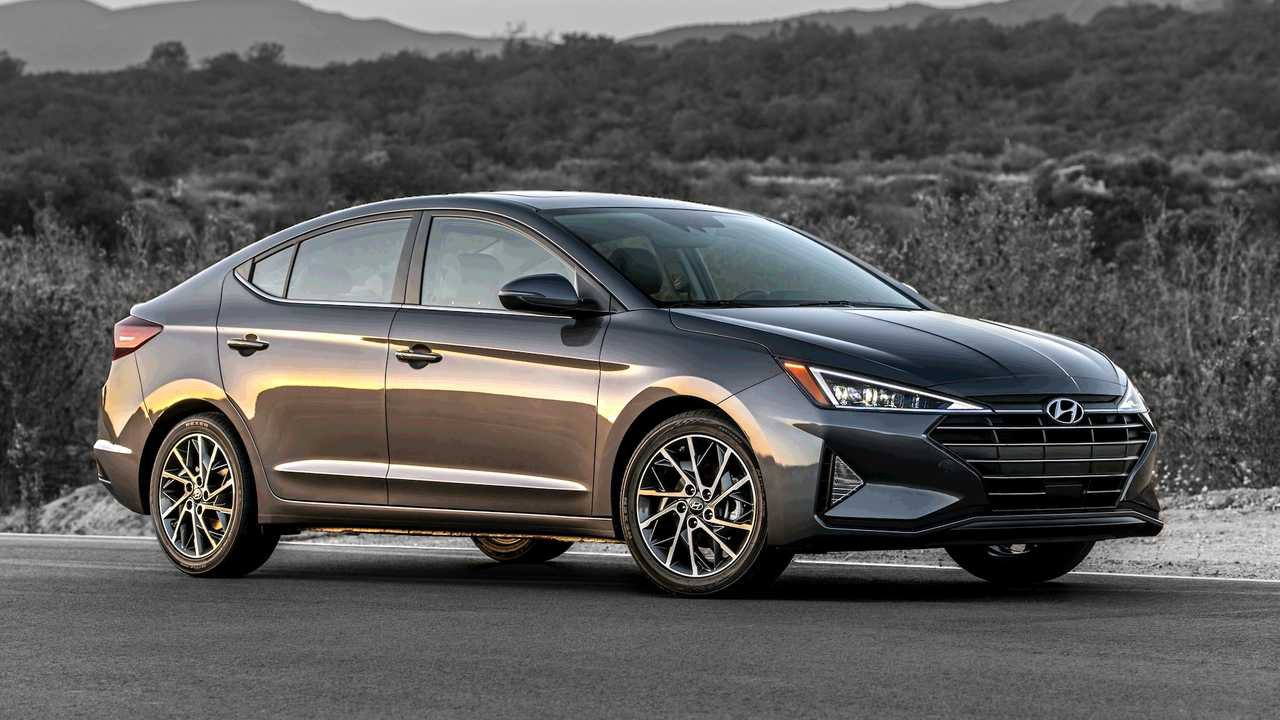car: (97, 185, 1165, 608)
